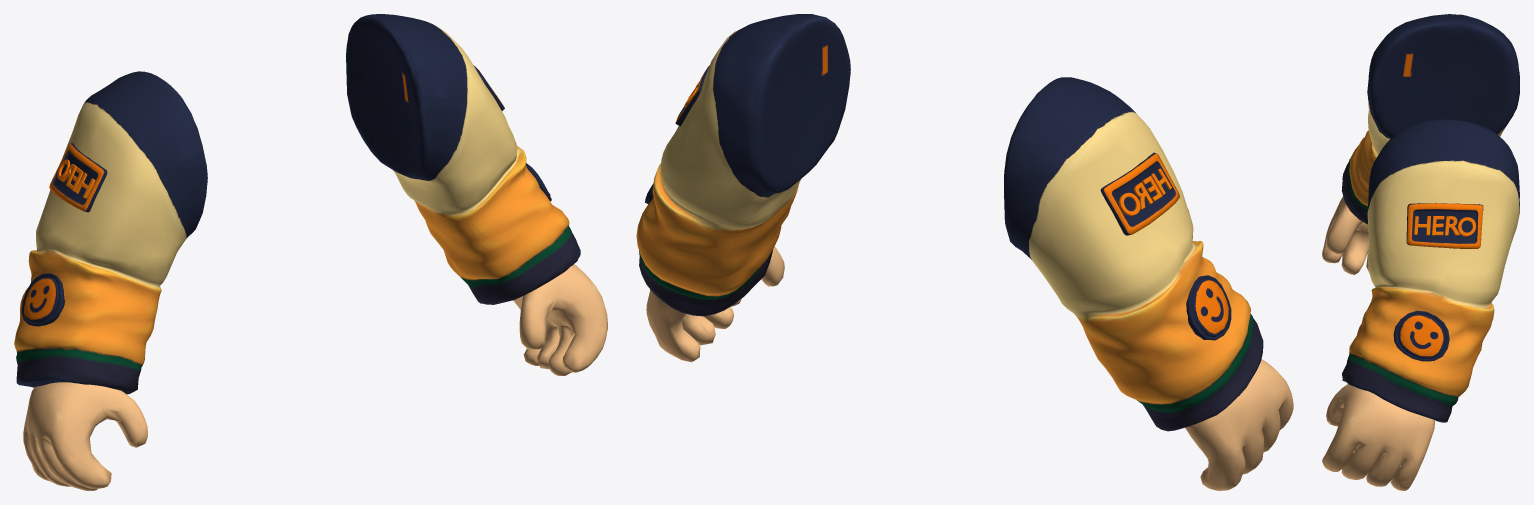
The model's file is Hand.glb.
3 views of the same model, side by side, from view 1: azimuth 30°, elevation 25°; view 2: azimuth 150°, elevation 25°; view 3: azimuth 270°, elevation 25° (orthographic). The views are drawn at different scales.
Parts seen in each view (by area): view 1: Hand_low; view 2: Hand_low; view 3: Hand_low.
Part boxes in pixels (x1=…): Hand_low: x1=14, y1=14, x2=607, y2=490; Hand_low: x1=636, y1=14, x2=1293, y2=490; Hand_low: x1=1322, y1=14, x2=1519, y2=490.
Size of the model in its own units: 0.8331 by 0.5082 by 0.2899.
Materials: 1 (1 with a texture image).
